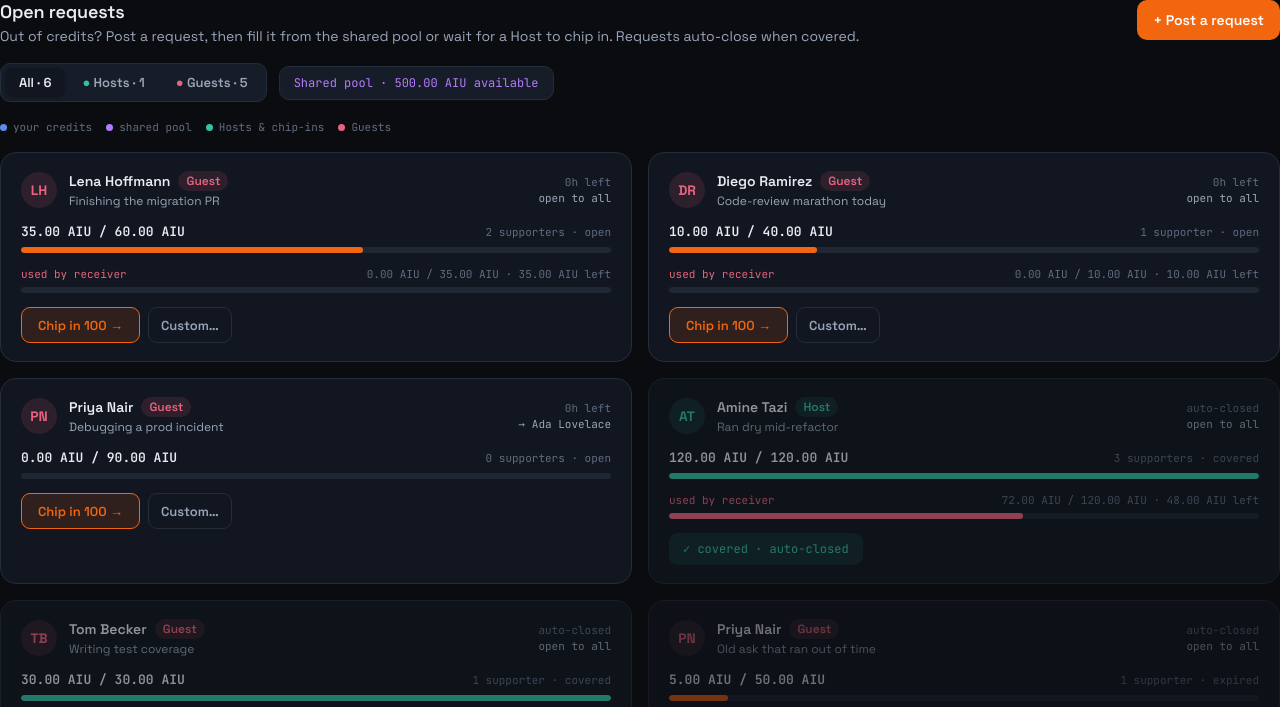
Test: marketplace › shows inline error and does not crash when donate rejects with CtcApiError
The image size is (1280, 707).
Expected: the link "Lena Hoffmann" is shown, left=69, top=172, right=170, bottom=190
What coordinates should you click on to do the following:
click the button "Chip in 100 →" below "60.00 AIU"
I would click on:
 (80, 325)
Its box is left=21, top=307, right=140, bottom=343.
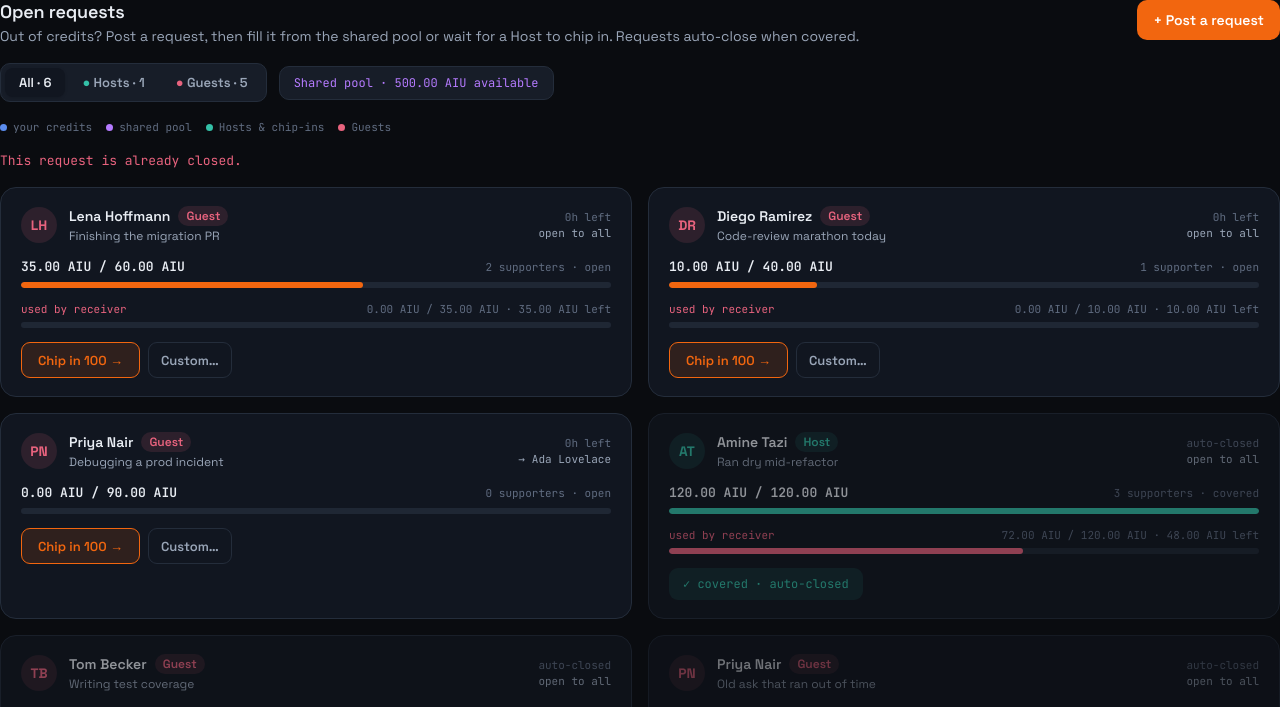
Expected: the text "Open requests" is shown, left=0, top=0, right=125, bottom=23
Now the message reads "This request is already closed.", box left=0, top=152, right=242, bottom=169
